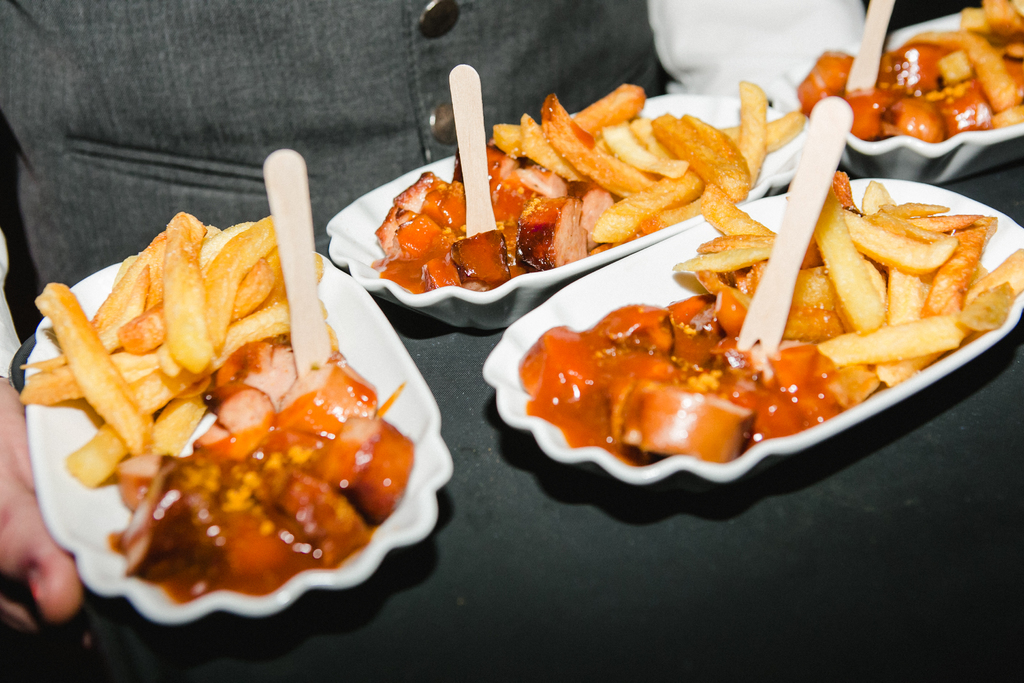French fries: (20, 199, 330, 474), (676, 171, 1023, 409), (485, 83, 807, 243), (892, 0, 1020, 129)
